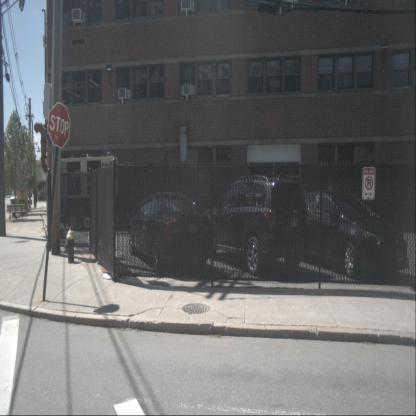human-pedestrian-adult: (33, 188, 38, 209)
vehicle-car: (288, 186, 409, 280), (203, 176, 309, 277), (128, 191, 212, 273)
